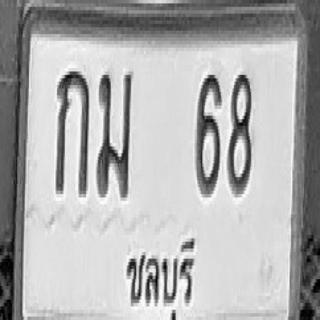A01: (55, 66, 89, 192)
A33: (97, 66, 132, 196)
N06: (196, 70, 221, 192)
N08: (227, 70, 251, 192)
P13: (123, 231, 196, 320)
